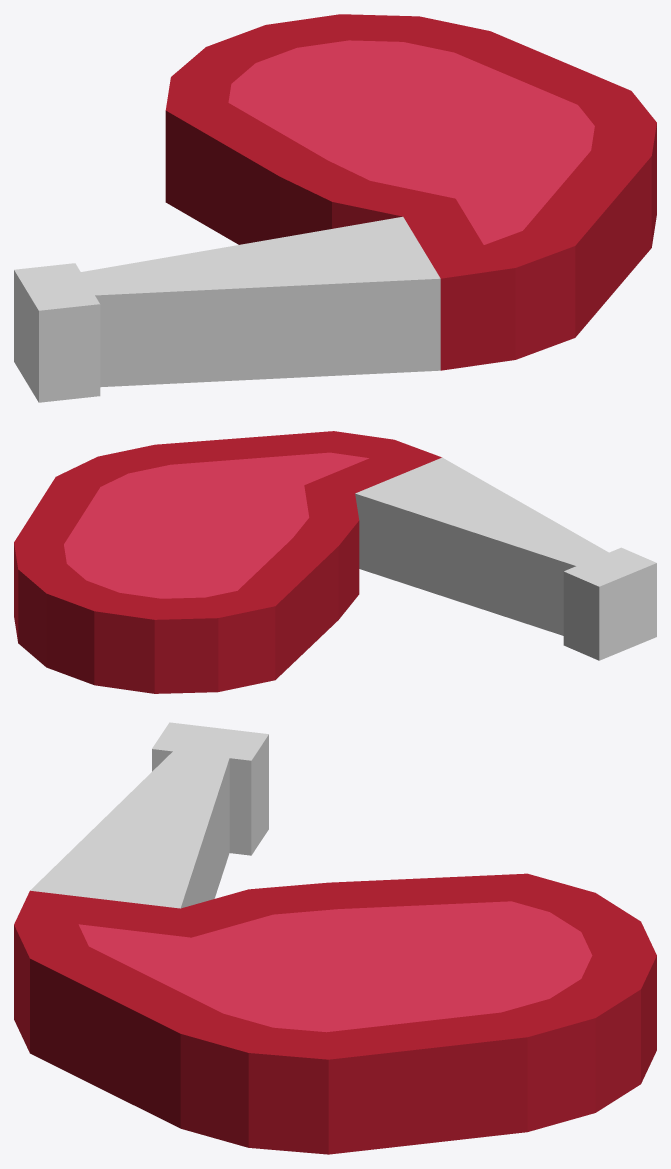
File: Meatchop.fbx
The picture shows the model from 3 angles, top to bottom: view 1: azimuth 30°, elevation 25°; view 2: azimuth 150°, elevation 25°; view 3: azimuth 270°, elevation 25°; orthographic projection. The views are drawn at different scales.
Parts seen in each view (by area): view 1: Cylinder; view 2: Cylinder; view 3: Cylinder.
Boxes of the visible parts, x1,y1,x2,y2 form: Cylinder: (14,14,656,402); Cylinder: (14,431,656,693); Cylinder: (14,722,656,1154).
Bounding box in the file's own units: 381 × 50 × 307.
